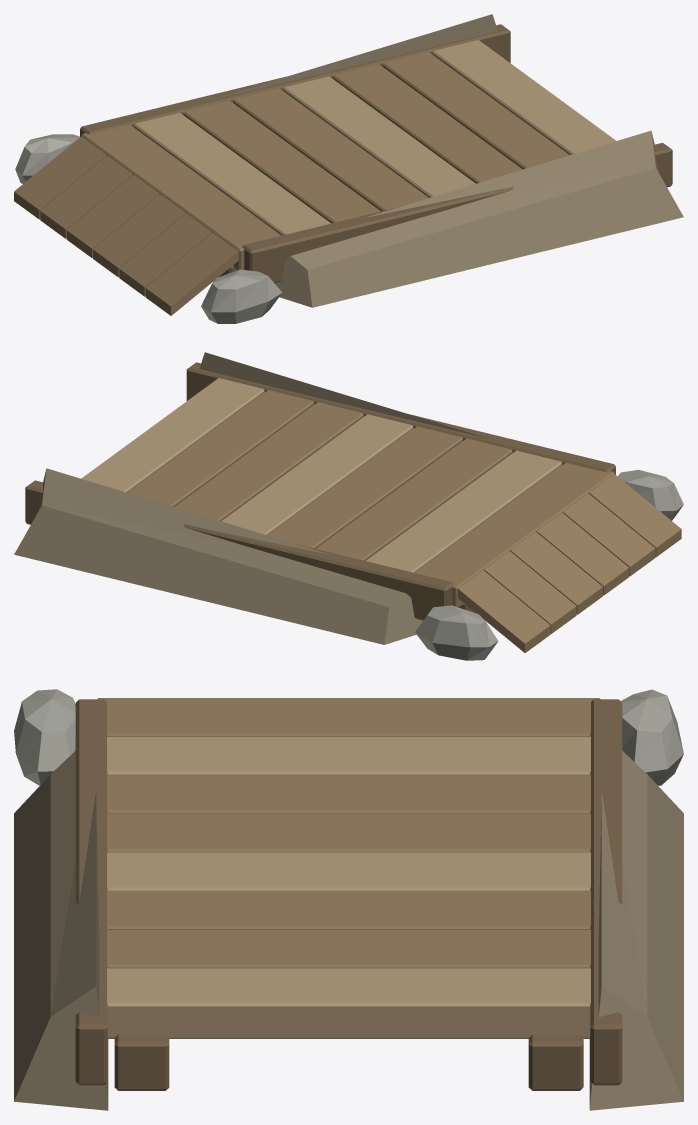
Rendered from firing_platform.glb.
The picture shows the model from 3 angles, top to bottom: view 1: azimuth 30°, elevation 25°; view 2: azimuth 150°, elevation 25°; view 3: azimuth 270°, elevation 25°; orthographic projection. The views are drawn at different scales.
Parts seen in each view (by area): view 1: firing_platform_oak, firing_platform_land_earth, firing_platform_oak_light, firing_platform_oak_dark, firing_platform_land_rock; view 2: firing_platform_oak, firing_platform_land_earth, firing_platform_oak_light, firing_platform_oak_dark, firing_platform_land_rock; view 3: firing_platform_oak, firing_platform_oak_light, firing_platform_land_earth, firing_platform_oak_dark, firing_platform_land_rock.
Part boxes in pixels (x1,y1,x2,y2): firing_platform_oak: (14,52,569,315); firing_platform_land_earth: (206,14,683,307); firing_platform_oak_light: (134,40,615,235); firing_platform_oak_dark: (80,24,672,282); firing_platform_land_rock: (15,134,282,323); firing_platform_oak: (128,390,681,652); firing_platform_land_earth: (14,352,489,644); firing_platform_oak_light: (81,378,562,572); firing_platform_oak_dark: (25,362,615,620); firing_platform_land_rock: (415,469,683,660); firing_platform_oak: (97,698,600,968); firing_platform_oak_light: (107,736,590,1038); firing_platform_land_earth: (14,751,683,1110); firing_platform_oak_dark: (75,699,622,1090); firing_platform_land_rock: (14,689,683,785).
Bounding box in the file's own units: 3 × 0.4 × 2.2.
